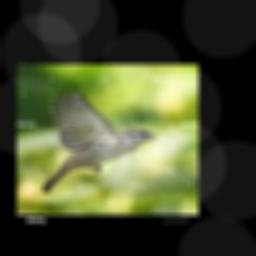Sparrow: (42, 87, 157, 192)
